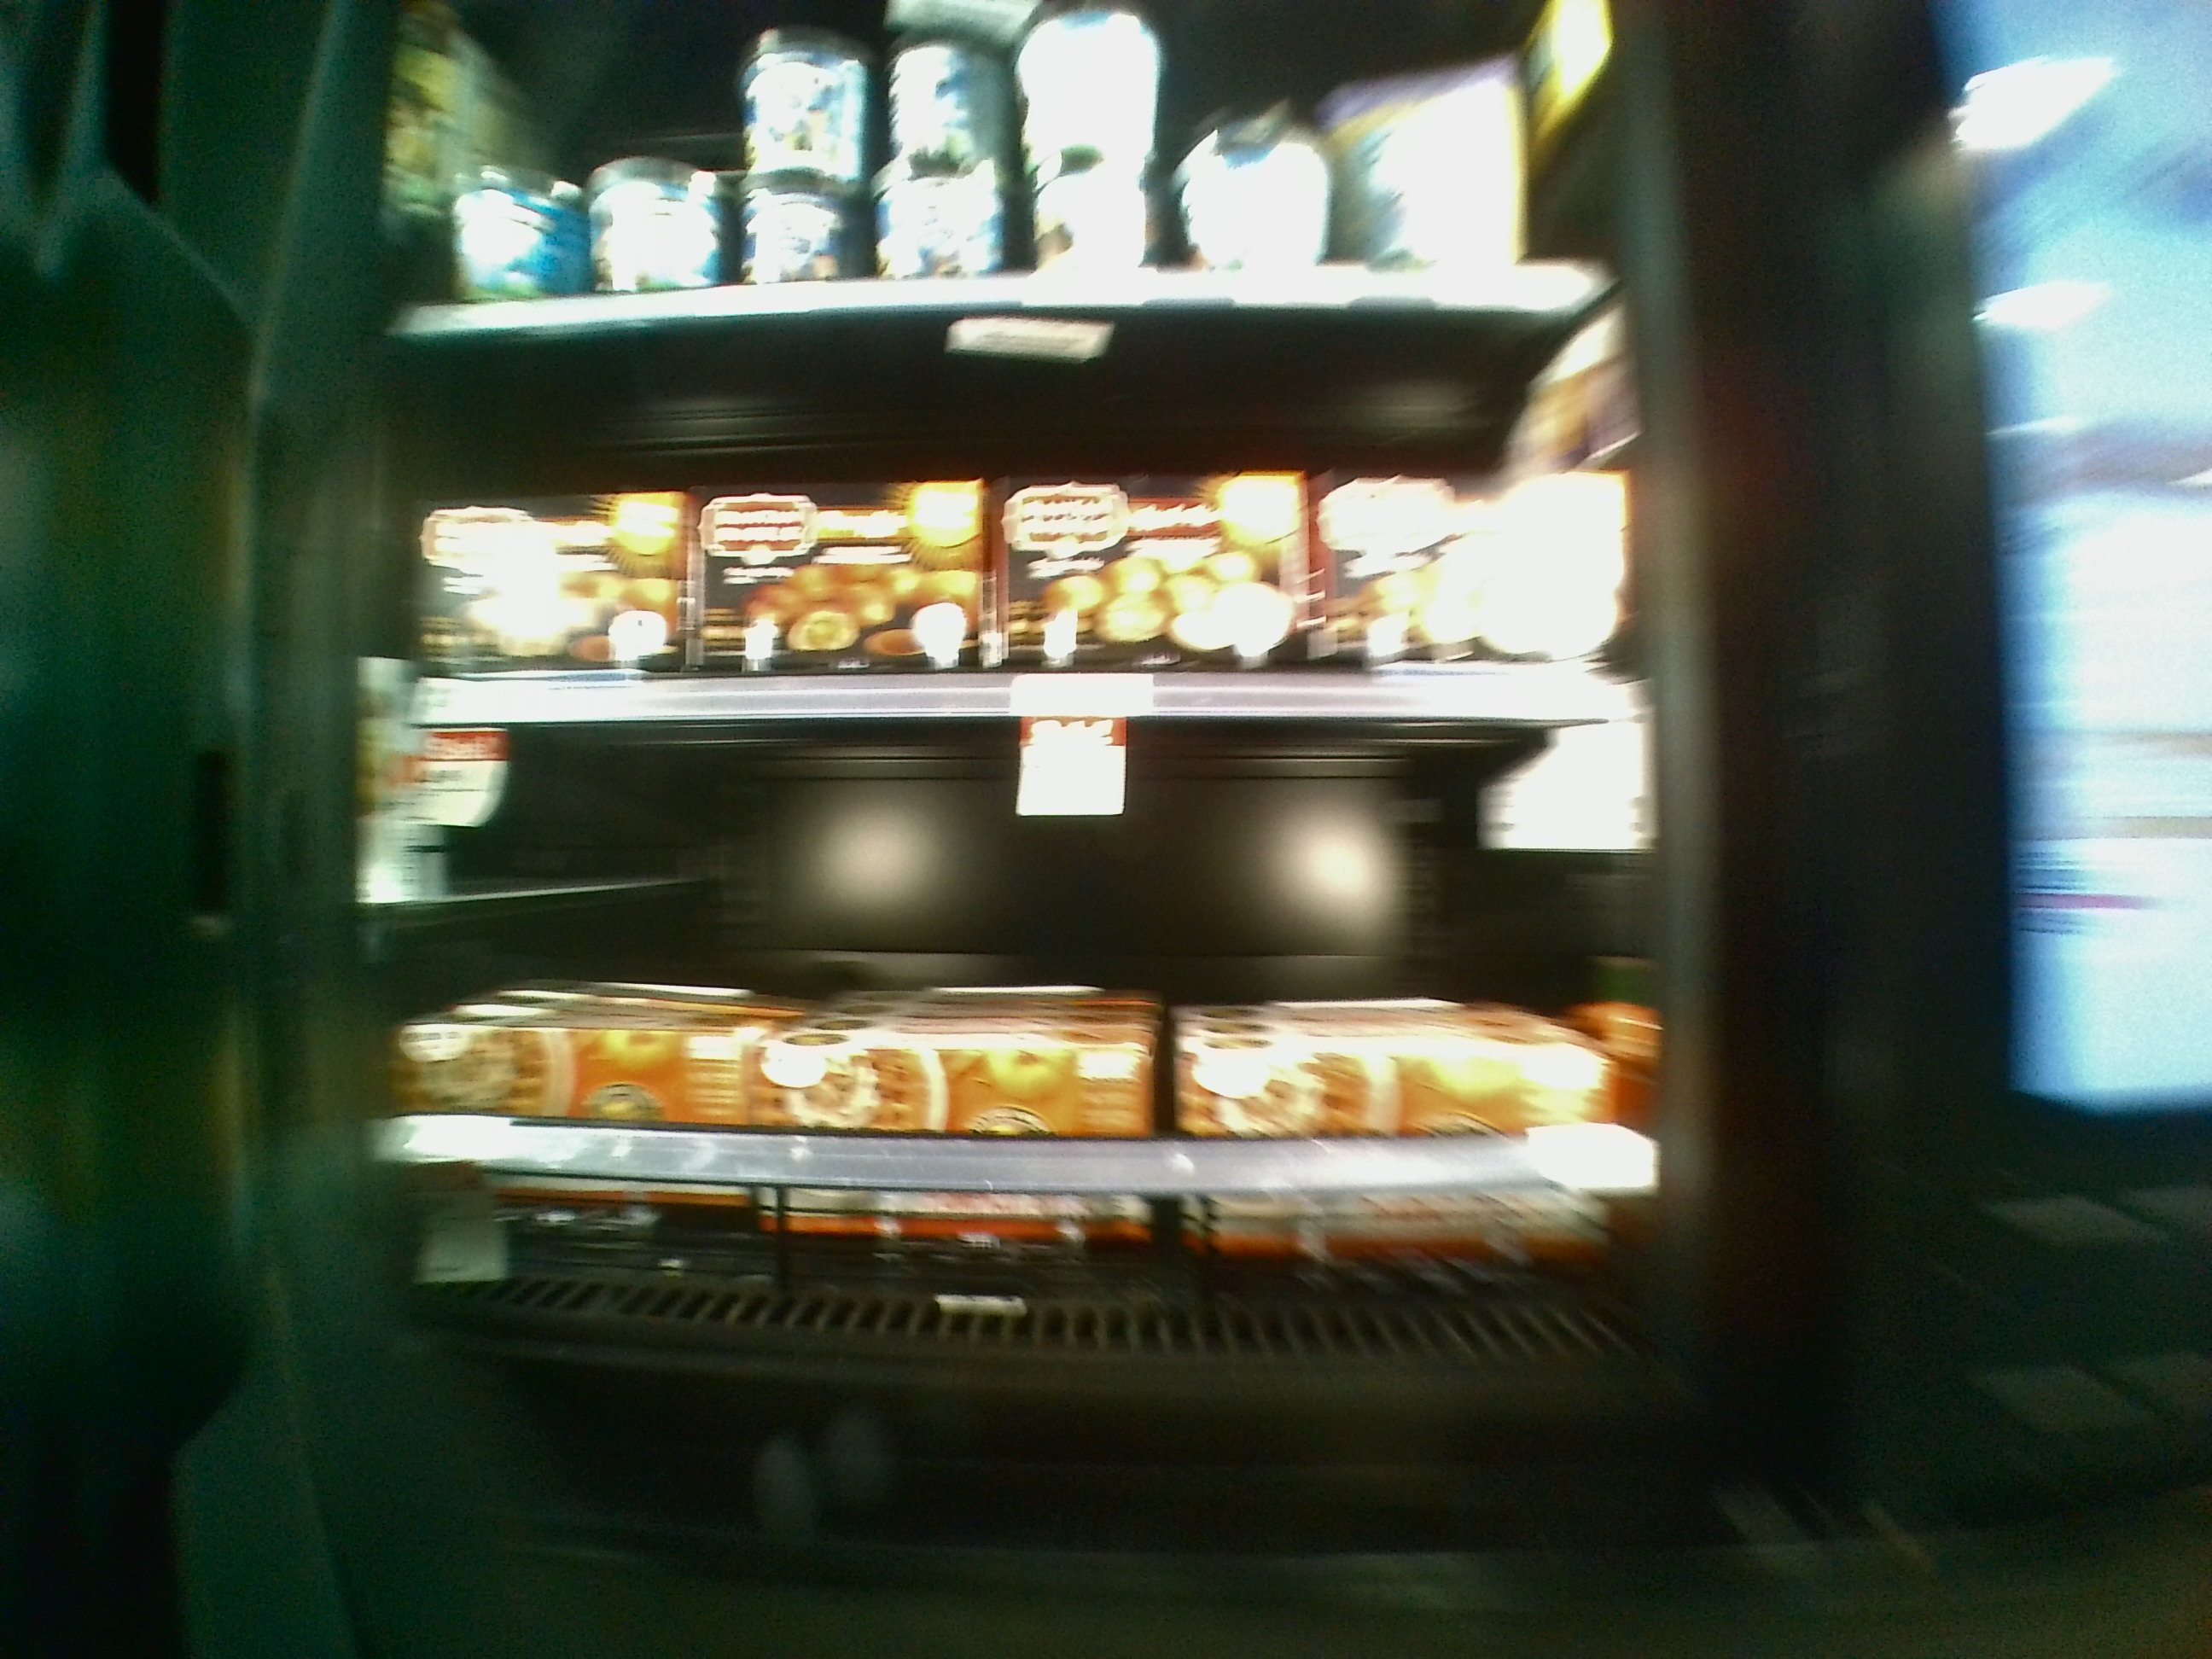shelf: (402, 721, 1674, 1384), (399, 329, 1658, 730)
